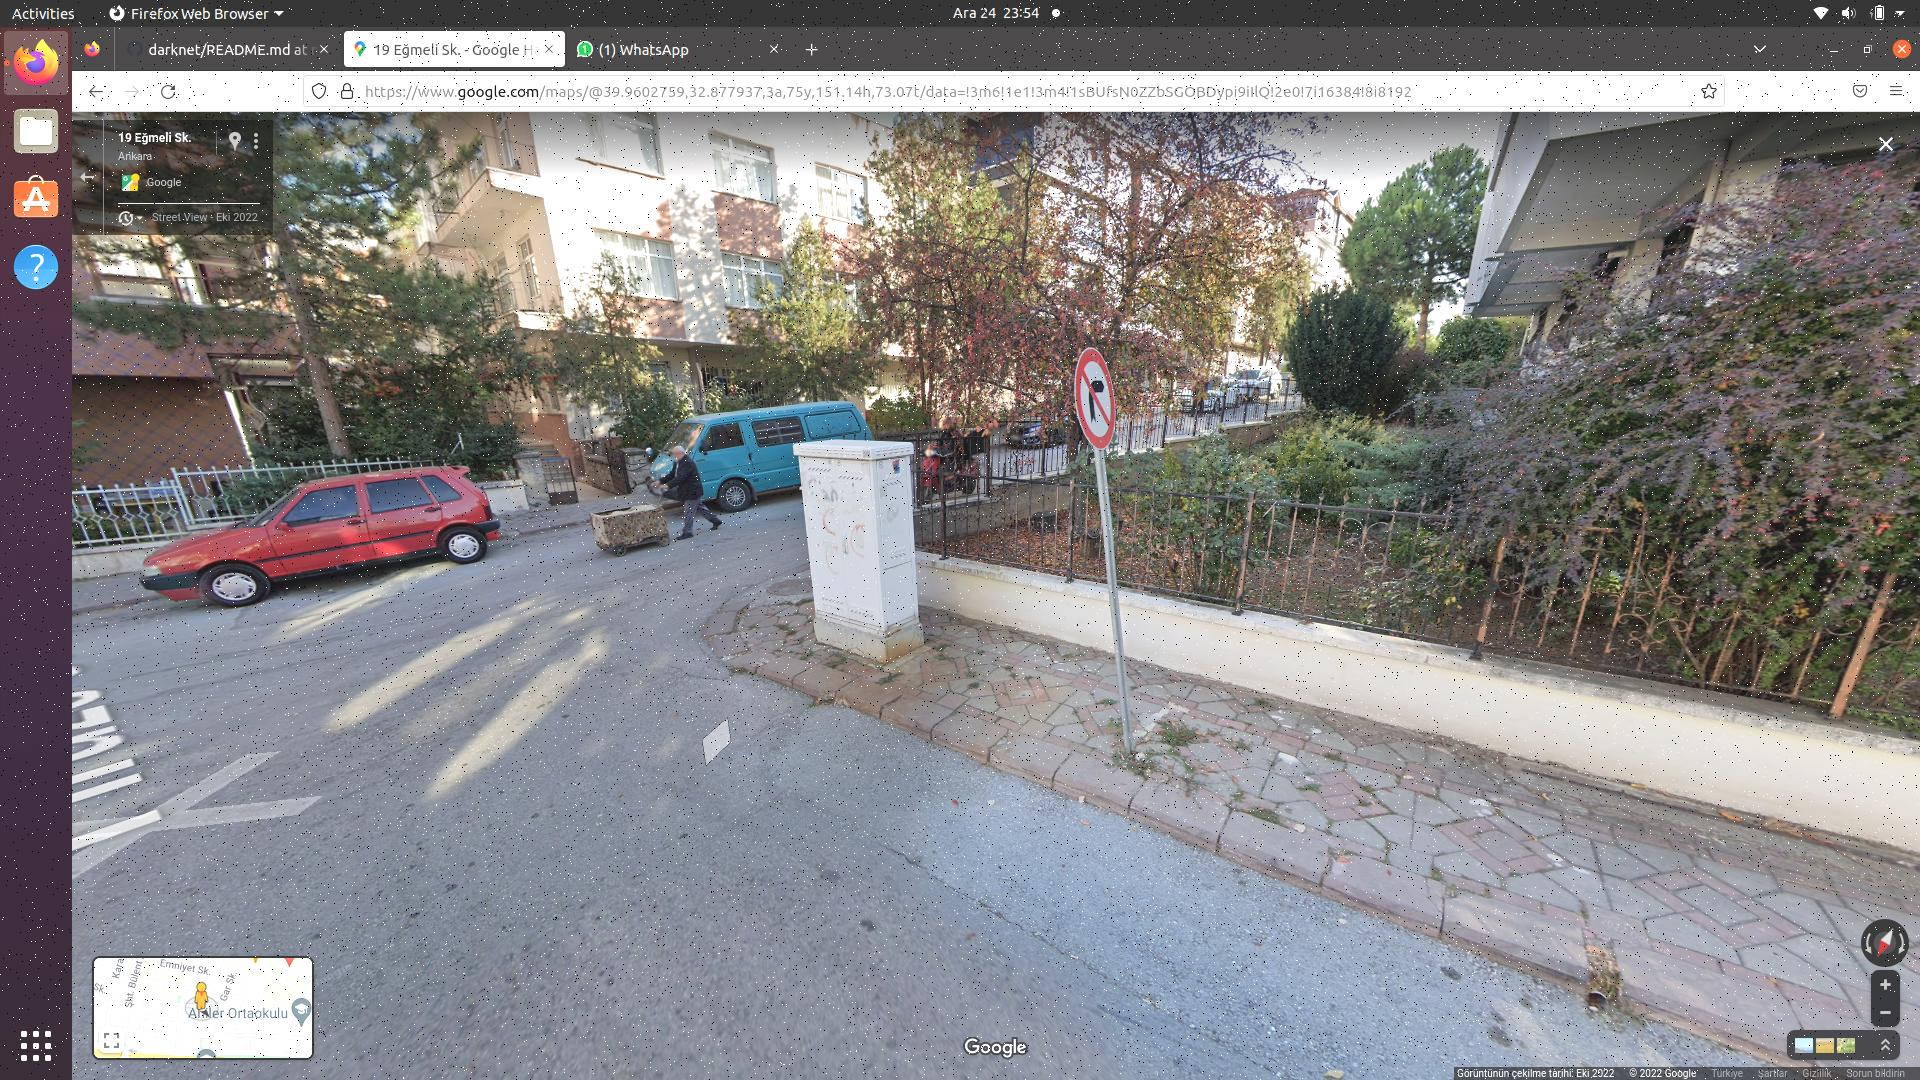rightturnsareforbidden: (1071, 340, 1126, 455)
